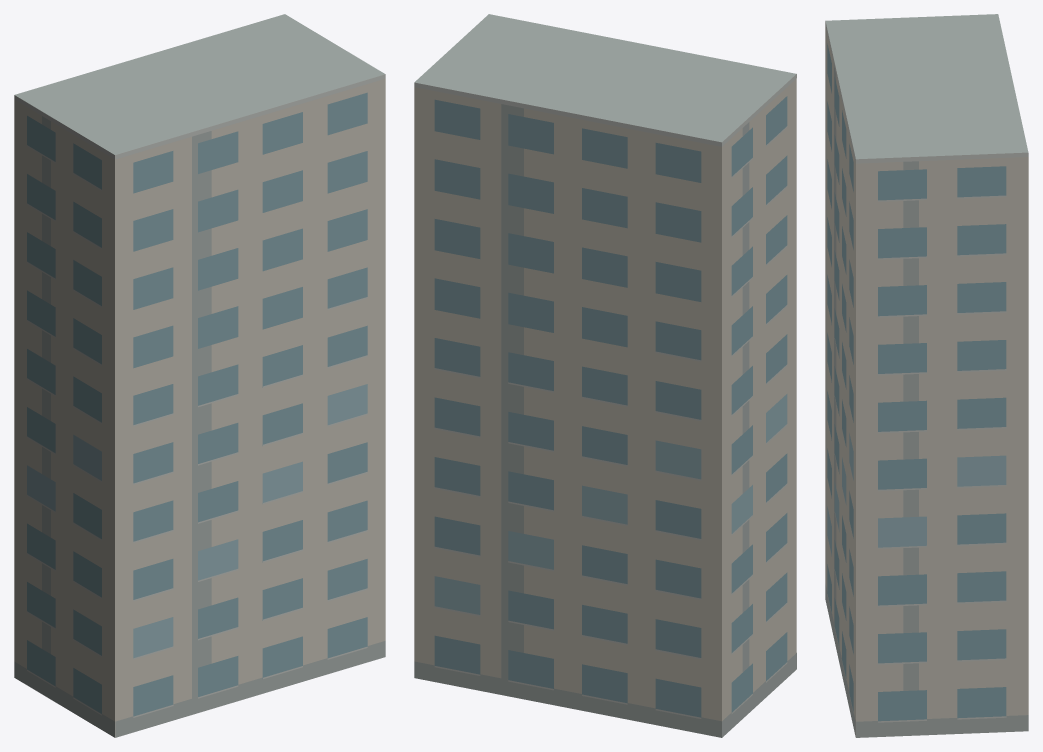
The model's file is residential-cb0d43b2-533c-468e-b7ec-6473fab4f6c6.glb.
3 renders of one model, left to right at view 1: azimuth 30°, elevation 25°; view 2: azimuth 150°, elevation 25°; view 3: azimuth 270°, elevation 25°, orthographic. The views are drawn at different scales.
Visible parts, largest first — view 1: residential-cb0d43b2-533c-468e-b7ec-6473fab4f6c6.tmp; view 2: residential-cb0d43b2-533c-468e-b7ec-6473fab4f6c6.tmp; view 3: residential-cb0d43b2-533c-468e-b7ec-6473fab4f6c6.tmp.
Part boxes in pixels (box(x1,y1,x2,y2)): residential-cb0d43b2-533c-468e-b7ec-6473fab4f6c6.tmp: box(14, 14, 385, 737); residential-cb0d43b2-533c-468e-b7ec-6473fab4f6c6.tmp: box(414, 14, 796, 737); residential-cb0d43b2-533c-468e-b7ec-6473fab4f6c6.tmp: box(825, 14, 1028, 737).
Size of the model in its own units: 17.24 by 32 by 10.19.
